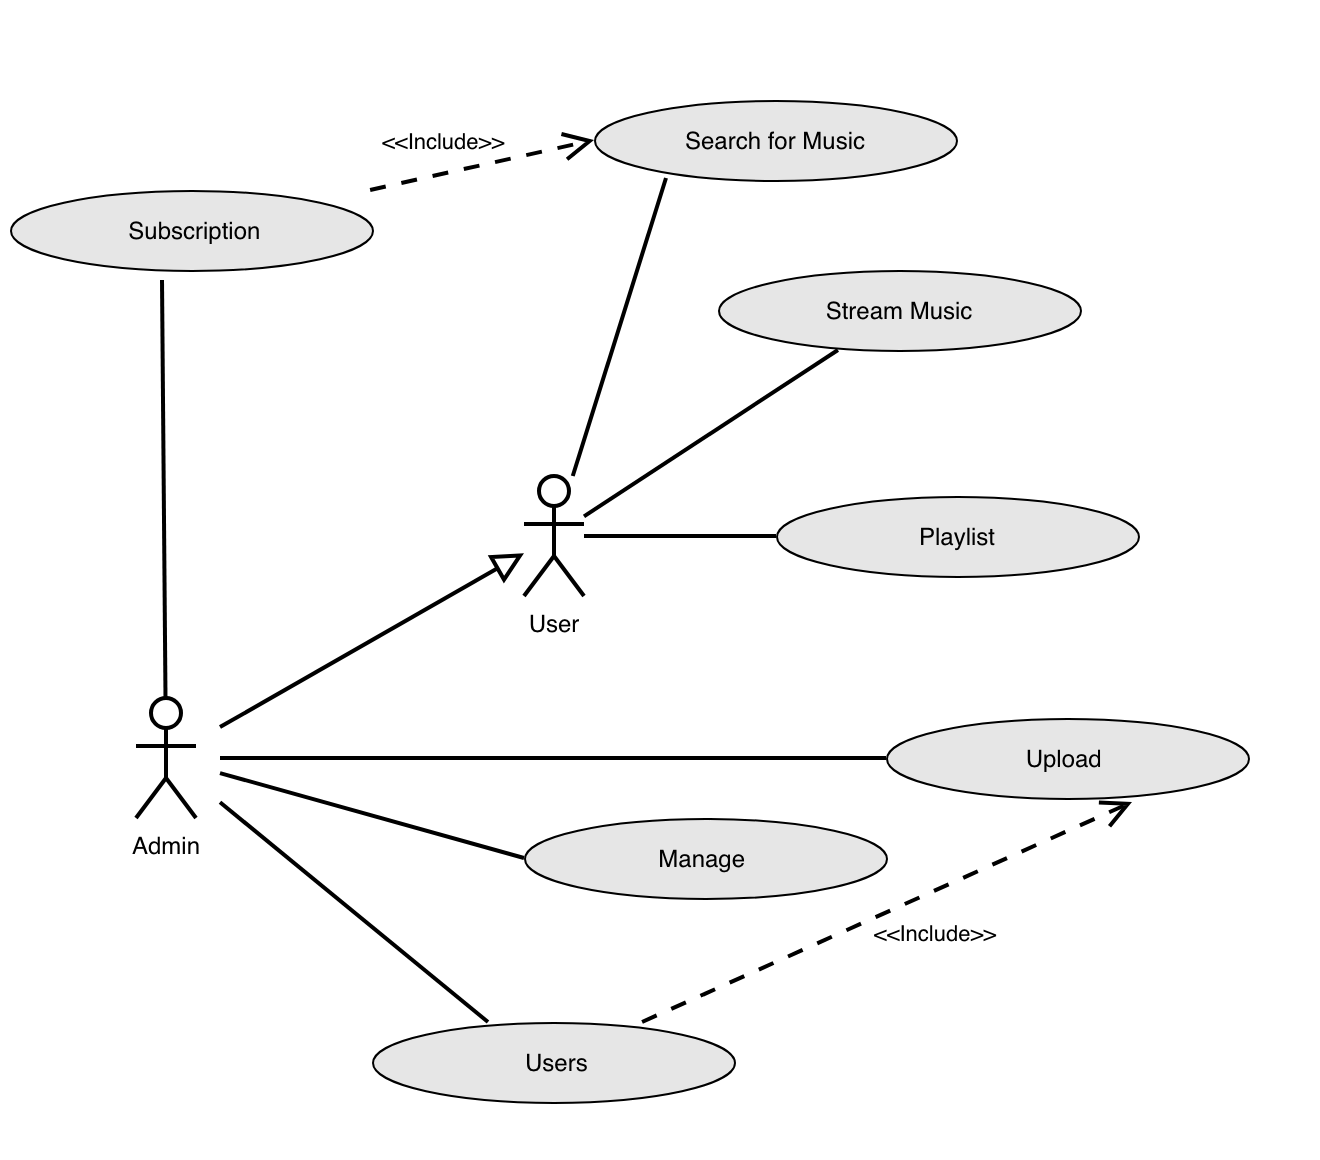actor: (519, 471, 592, 605), (130, 694, 202, 829)
association: (639, 796, 1151, 1026), (218, 800, 491, 1021), (584, 347, 842, 517), (571, 175, 667, 476), (129, 277, 198, 695), (219, 771, 517, 859), (222, 736, 884, 773), (367, 126, 590, 192), (583, 519, 774, 557)
generalization: (220, 550, 523, 727)
text: (677, 120, 869, 162), (647, 838, 768, 888), (117, 209, 267, 249), (823, 293, 979, 330), (378, 124, 507, 159), (897, 517, 1014, 556), (1019, 741, 1128, 782), (514, 1045, 607, 1081), (874, 923, 1007, 948), (516, 608, 607, 637), (132, 831, 203, 864)
use_case: (593, 98, 959, 189), (369, 1019, 736, 1108), (522, 815, 890, 904), (7, 188, 376, 275), (714, 267, 1082, 355), (773, 493, 1140, 581), (886, 715, 1253, 802)
